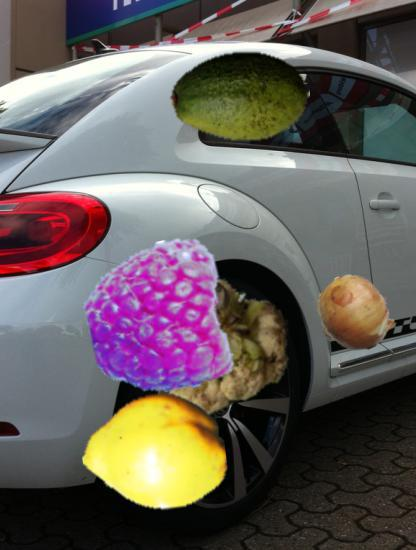Avocado: (169, 25, 311, 167)
Cauliflower: (148, 267, 292, 411)
Onion: (315, 273, 395, 353)
Quince: (82, 380, 226, 524)
Raspberry: (82, 244, 232, 394)
